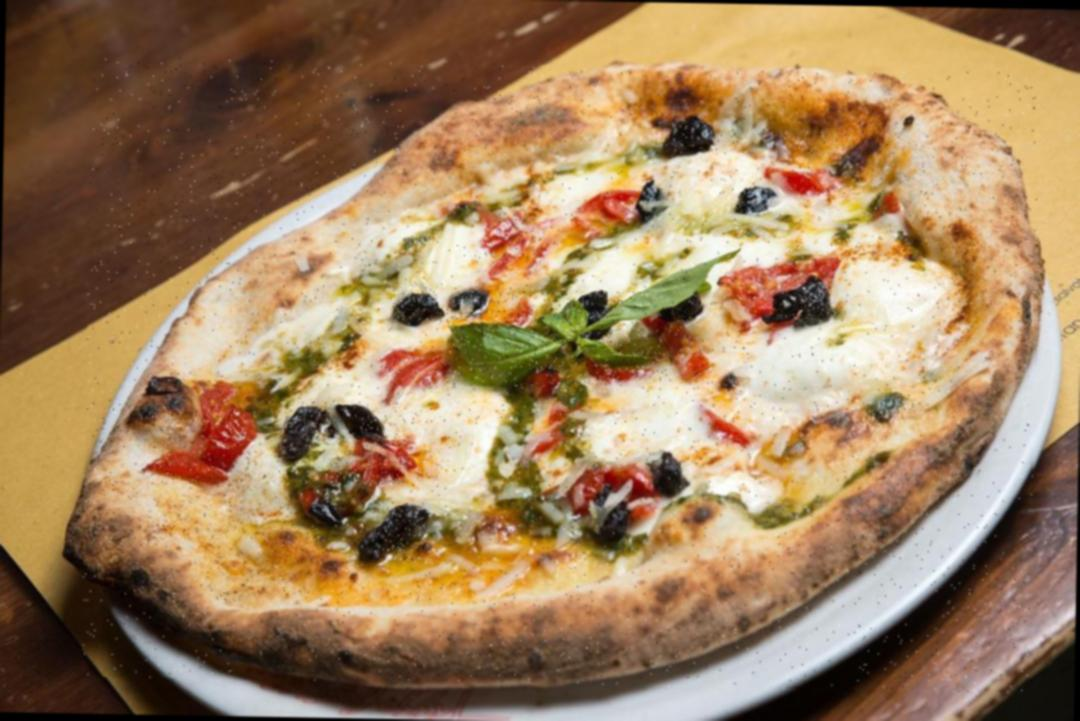Basil: (447, 289, 673, 393)
Olives: (286, 400, 380, 454), (388, 282, 488, 322), (371, 501, 425, 560), (591, 489, 632, 552), (775, 288, 835, 320), (646, 453, 684, 500), (743, 182, 777, 221), (668, 124, 714, 152), (634, 186, 674, 211)
Pizza: (82, 56, 1041, 692)
Tomatoes: (146, 411, 255, 492), (729, 254, 851, 312), (578, 462, 646, 524), (332, 435, 406, 486), (384, 338, 444, 400), (573, 188, 644, 236), (753, 168, 830, 205), (492, 207, 536, 266)
